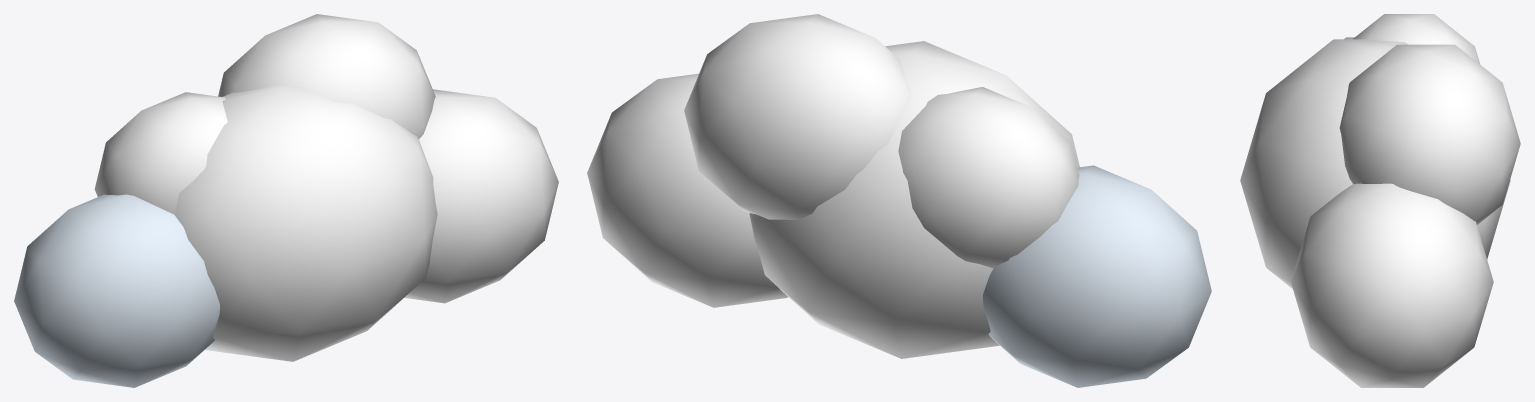
The model's file is cloud.glb.
3 views of the same model, side by side, from view 1: azimuth 30°, elevation 25°; view 2: azimuth 150°, elevation 25°; view 3: azimuth 270°, elevation 25° (orthographic). The views are drawn at different scales.
Visible parts, largest first — view 1: cloud_mesh; view 2: cloud_mesh; view 3: cloud_mesh.
Boxes of the visible parts, left/top/right/bottom form: cloud_mesh: left=14, top=14, right=558, bottom=387; cloud_mesh: left=587, top=14, right=1211, bottom=387; cloud_mesh: left=1240, top=14, right=1520, bottom=387.
Size of the model in its own units: 3.53 by 1.9 by 1.66.
1 material, 1 textured.
